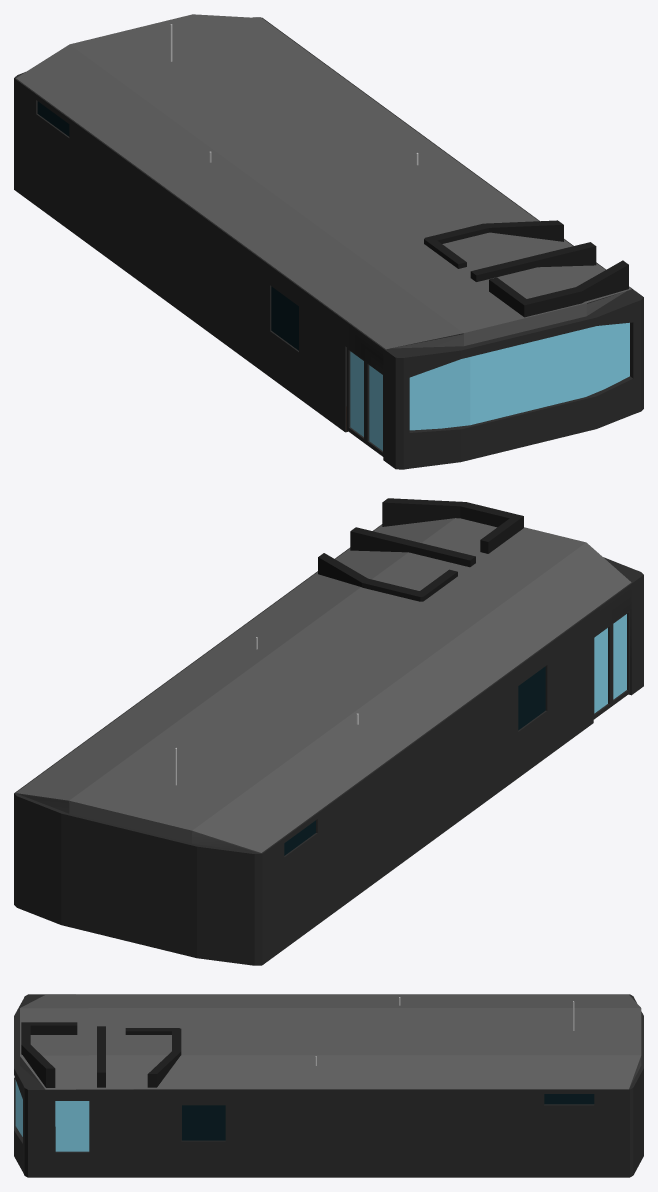
Rendered from BUS.fbx.
3 renders of one model, top to bottom at view 1: azimuth 30°, elevation 25°; view 2: azimuth 150°, elevation 25°; view 3: azimuth 270°, elevation 25°, orthographic. The views are drawn at different scales.
Visible parts, largest first — view 1: Stairs_1_001, FrontBusGlass, Stairs_1_002, Cube_015; view 2: Stairs_1_001, Stairs_1_002, Cube_015; view 3: Stairs_1_001, Cube_011, Cube_012, Cube_013, FrontBusGlass.
Part boxes in pixels (x1,y1,x2,y2): Stairs_1_001: (14,14,643,469); FrontBusGlass: (409,322,629,430); Stairs_1_002: (347,347,383,456); Cube_015: (271,286,298,350); Stairs_1_001: (14,498,643,965); Stairs_1_002: (593,610,630,719); Cube_015: (518,666,545,730); Stairs_1_001: (14,994,643,1177); Cube_011: (55,1101,89,1151); Cube_012: (182,1105,225,1140); Cube_013: (544,1094,594,1104); FrontBusGlass: (15,1080,22,1136).
Bounding box in the file's own units: 1513 × 942 × 4219.
5 materials, 1 textured.
